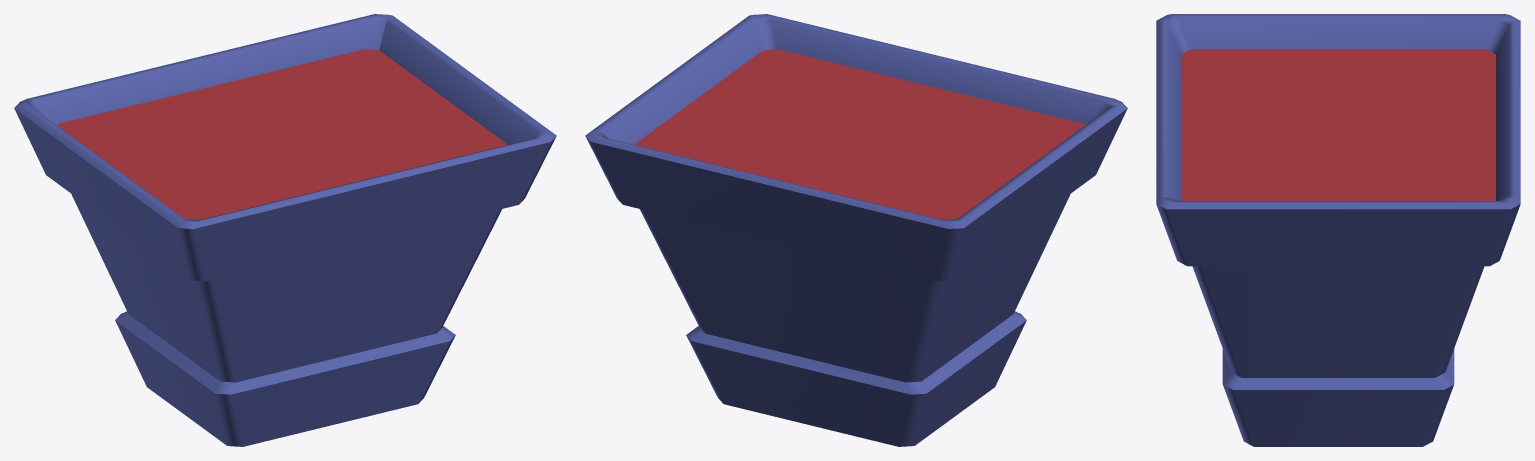
The model's file is SM_Lamp_03.fbx.
3 views of the same model, side by side, from view 1: azimuth 30°, elevation 25°; view 2: azimuth 150°, elevation 25°; view 3: azimuth 270°, elevation 25° (orthographic). The views are drawn at different scales.
Visible parts, largest first — view 1: SM_Lamp_03; view 2: SM_Lamp_03; view 3: SM_Lamp_03.
Part boxes in pixels (bbox=[...]): SM_Lamp_03: bbox=[14, 14, 556, 446]; SM_Lamp_03: bbox=[585, 14, 1127, 446]; SM_Lamp_03: bbox=[1156, 14, 1520, 446].
Size of the model in its own units: 51.29 by 35.48 by 40.71.
